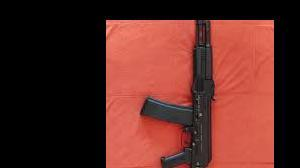larga: (139, 21, 217, 168)
